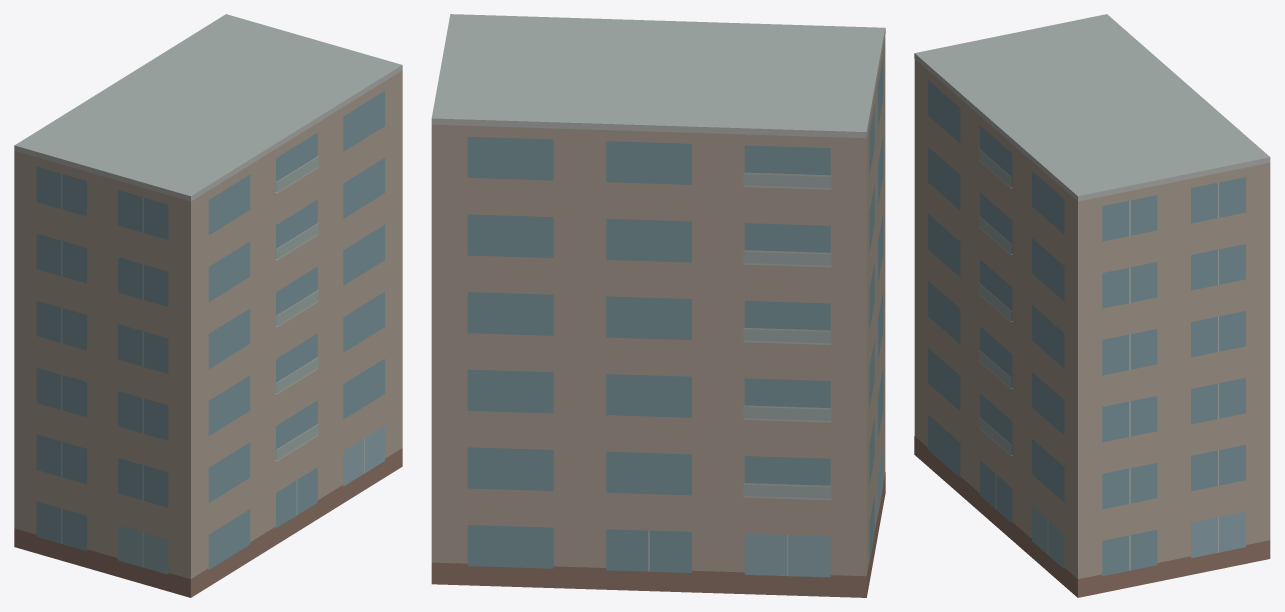
File: survey-upis-33044986.glb
3 renders of one model, left to right at view 1: azimuth 30°, elevation 25°; view 2: azimuth 150°, elevation 25°; view 3: azimuth 270°, elevation 25°, orthographic. The views are drawn at different scales.
Visible parts, largest first — view 1: survey-upis-33044986.tmp; view 2: survey-upis-33044986.tmp; view 3: survey-upis-33044986.tmp.
Boxes of the visible parts, x1,y1,x2,y2 form: survey-upis-33044986.tmp: (14,14,402,597); survey-upis-33044986.tmp: (431,14,885,597); survey-upis-33044986.tmp: (914,14,1270,597).
Bounding box in the file's own units: 17.82 × 18.3 × 14.71.
